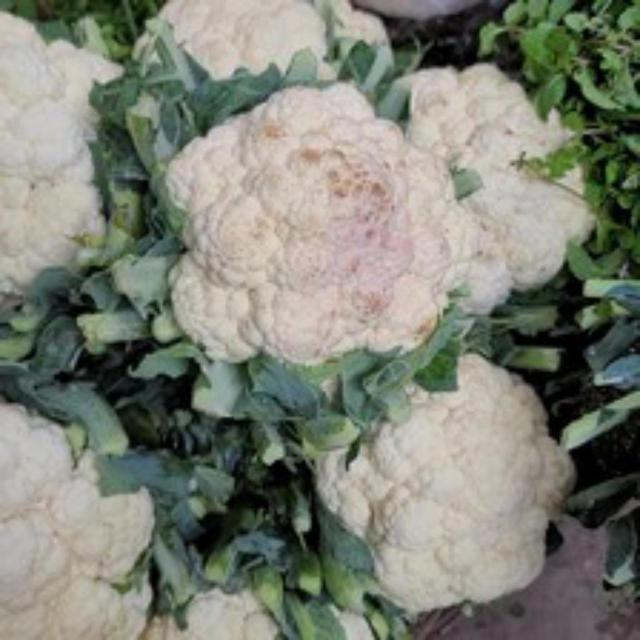cauliflower: (150, 72, 482, 392)
